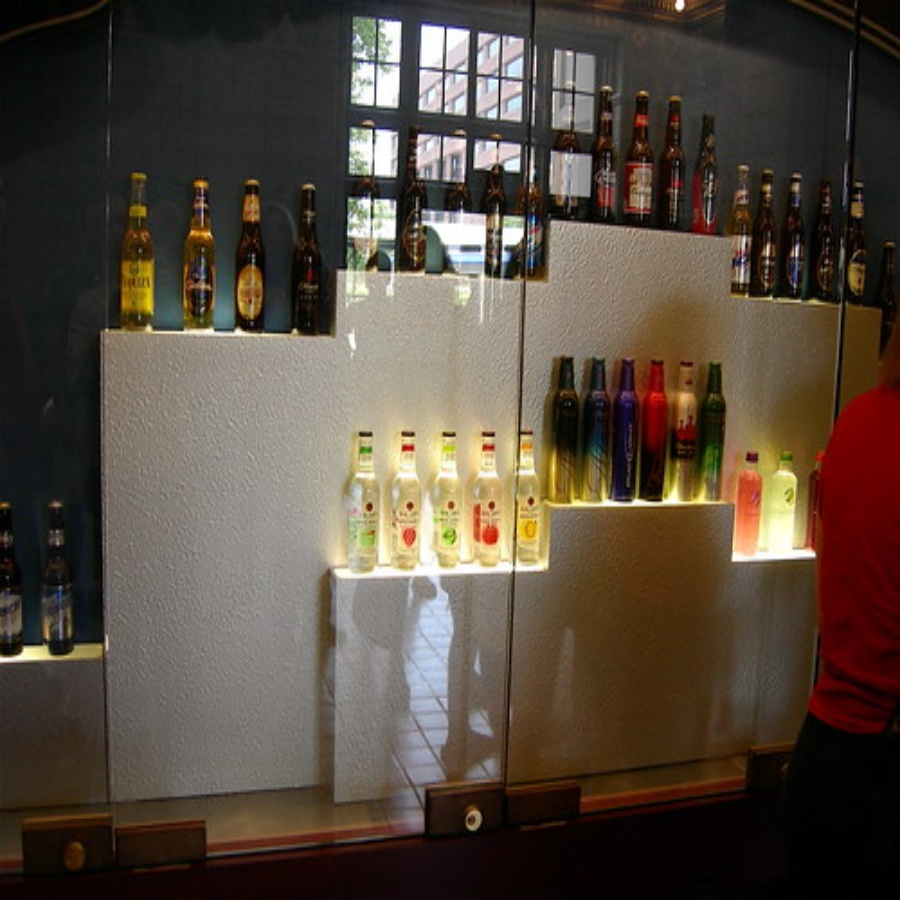beer: (111, 173, 161, 335), (282, 173, 327, 341), (179, 173, 222, 339), (576, 78, 617, 220), (663, 103, 691, 228), (401, 154, 428, 266)
